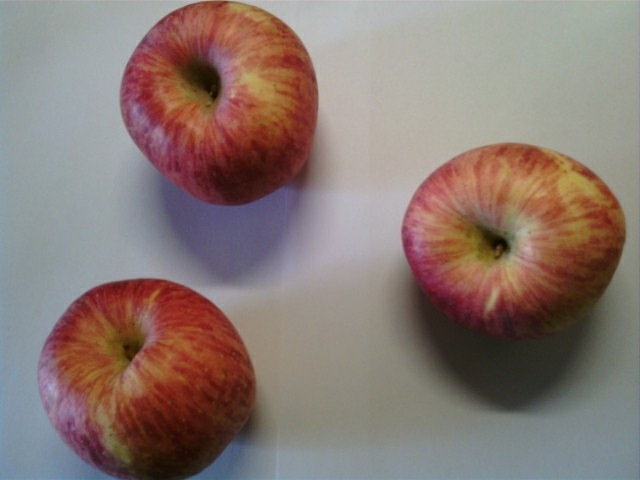normal_apple: (37, 278, 256, 480), (402, 141, 626, 335), (121, 1, 320, 209)
